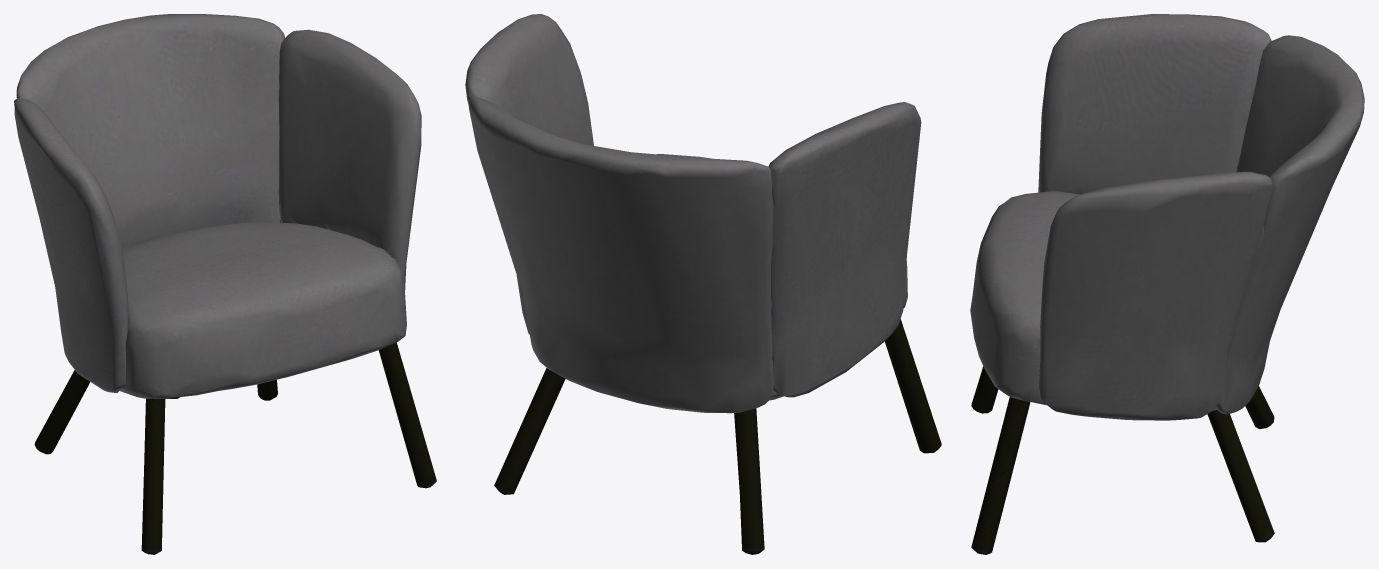
Rendered from 24 - HERRÅKRA Armchair - Vissle grey.glb.
3 views of the same model, side by side, from view 1: azimuth 30°, elevation 25°; view 2: azimuth 150°, elevation 25°; view 3: azimuth 270°, elevation 25° (orthographic). The views are drawn at different scales.
Visible parts, largest first — view 1: ASY_ART_40544716_S01_NV01; view 2: ASY_ART_40544716_S01_NV01; view 3: ASY_ART_40544716_S01_NV01.
Part boxes in pixels (bbox=[...]): ASY_ART_40544716_S01_NV01: bbox=[14, 14, 436, 554]; ASY_ART_40544716_S01_NV01: bbox=[465, 14, 941, 554]; ASY_ART_40544716_S01_NV01: bbox=[970, 14, 1364, 554].
Size of the model in its own units: 0.7066 by 0.7229 by 0.6597.
Materials: 1 (1 with a texture image).
